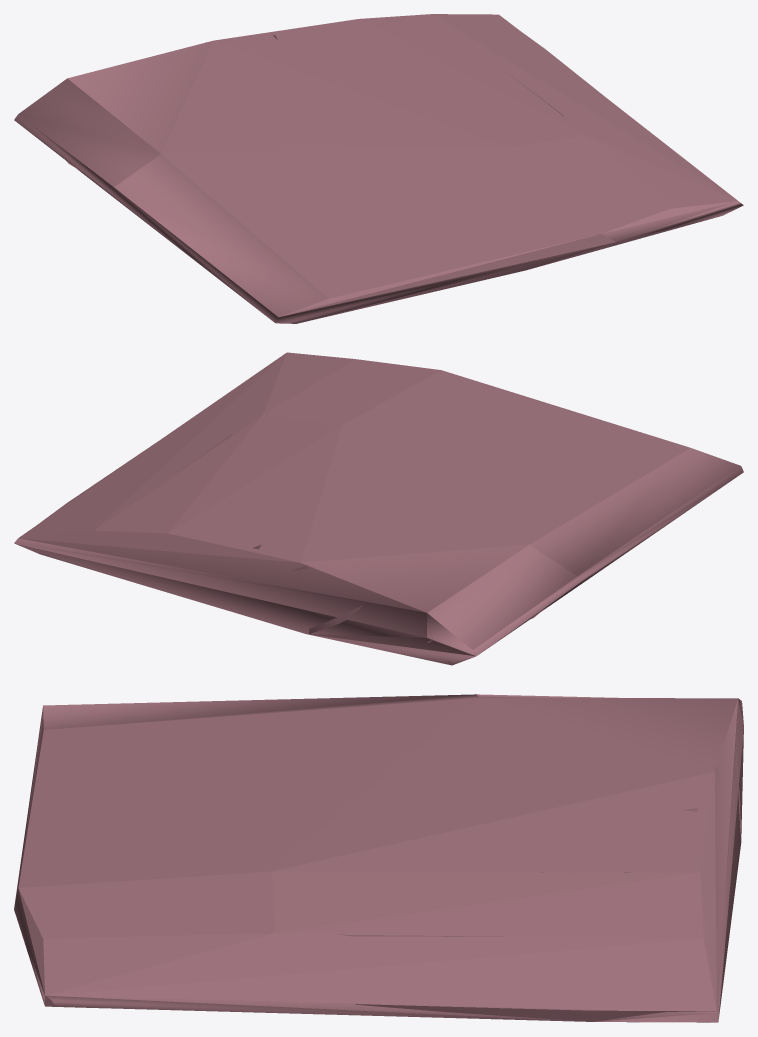
The model's file is metal_sheet.fbx.
3 renders of one model, top to bottom at view 1: azimuth 30°, elevation 25°; view 2: azimuth 150°, elevation 25°; view 3: azimuth 270°, elevation 25°, orthographic. The views are drawn at different scales.
Visible parts, largest first — view 1: c_metalsheet; view 2: c_metalsheet, metalsheet; view 3: c_metalsheet, metalsheet.
Part boxes in pixels (x1,y1,x2,y2): c_metalsheet: [14, 14, 743, 323]; c_metalsheet: [14, 352, 743, 665]; metalsheet: [19, 413, 546, 664]; c_metalsheet: [14, 694, 743, 1022]; metalsheet: [15, 724, 743, 1022].
Bounding box in the file's own units: 101 × 12.35 × 101.
